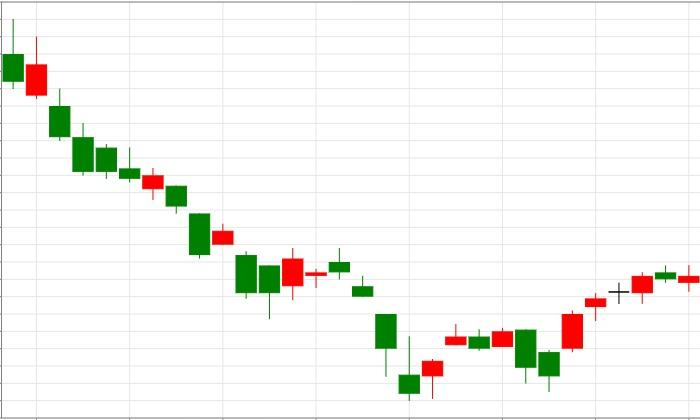bearish_engulfing_fall: (398, 324, 537, 401)
inverse_hammer_rise: (328, 248, 421, 401)
